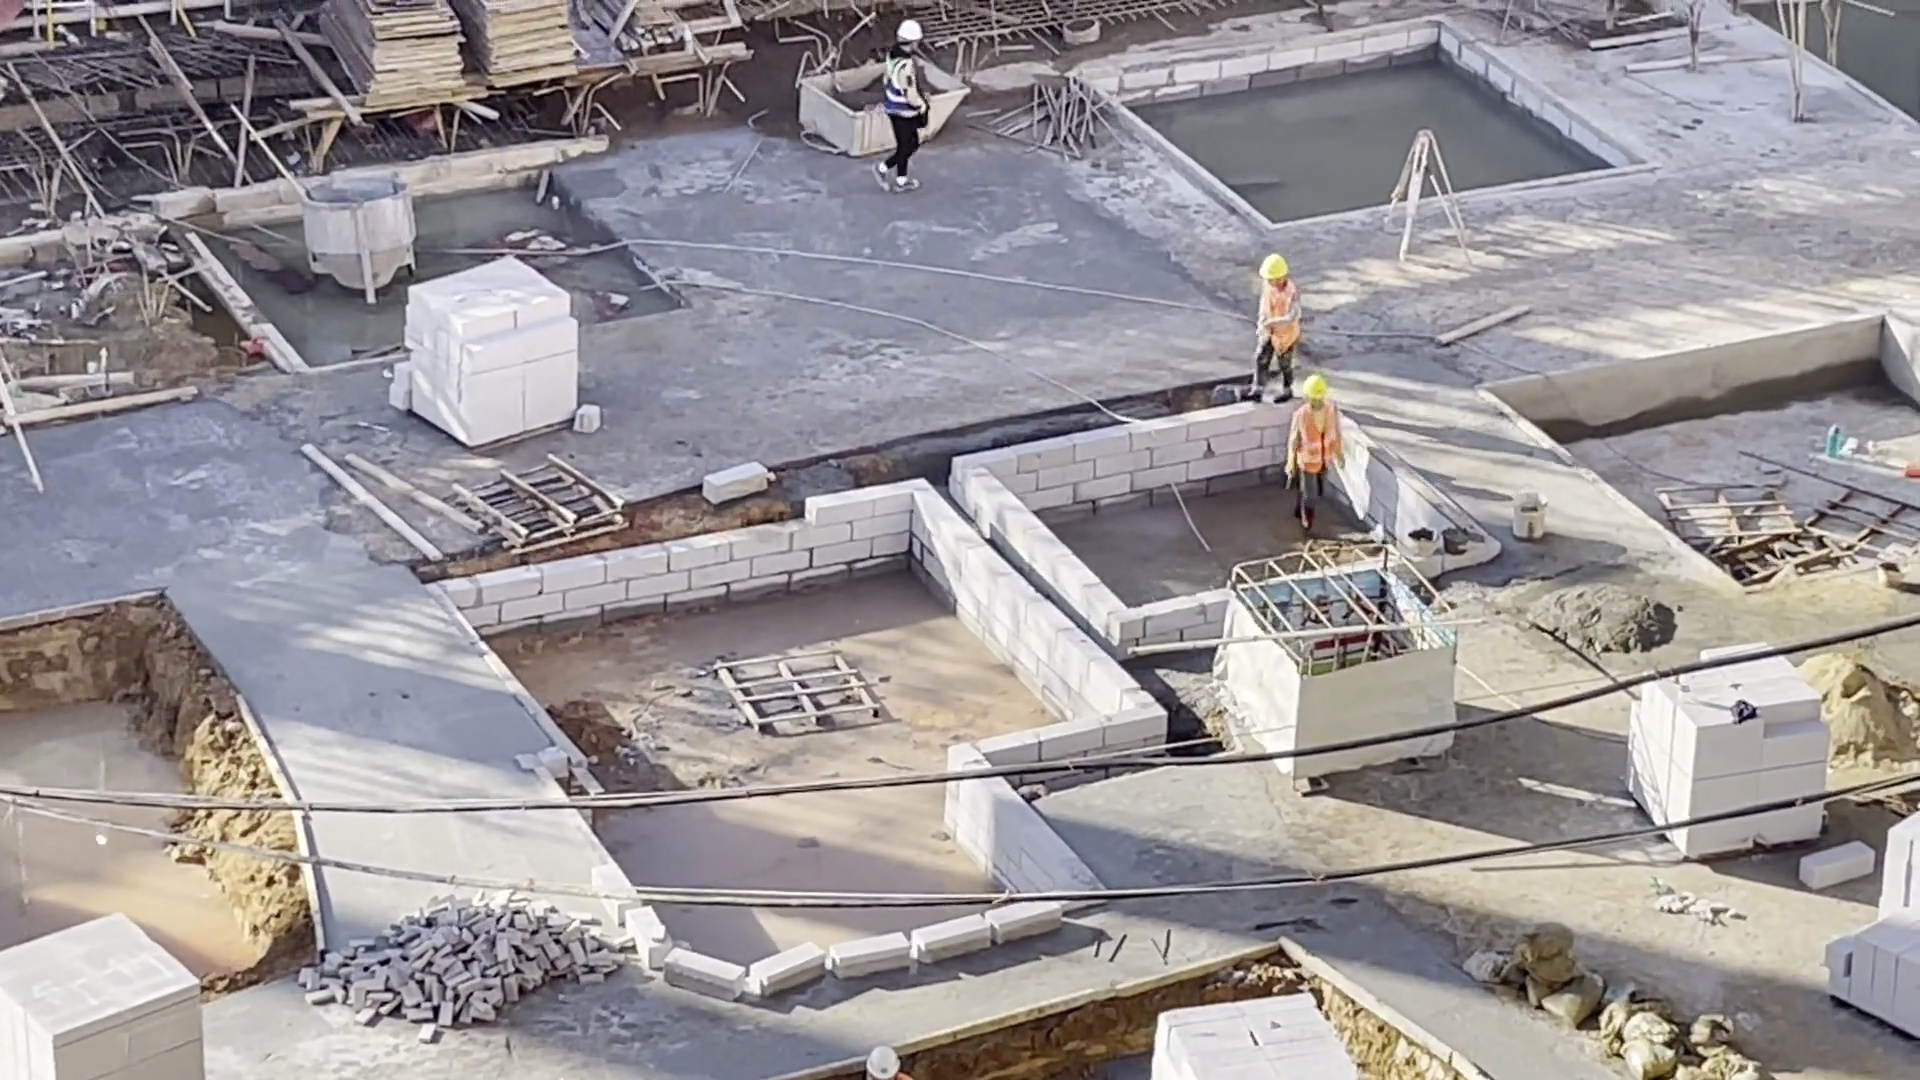board: (314, 1, 477, 111), (469, 2, 580, 93)
brick: (387, 252, 585, 449), (8, 901, 208, 1080), (1812, 798, 1920, 1032), (1619, 693, 1838, 803), (1147, 987, 1355, 1080)
helmet: (1256, 254, 1291, 282), (1299, 371, 1328, 401), (894, 19, 924, 44)
hopper: (299, 168, 415, 309), (792, 61, 882, 160)
person: (1279, 373, 1350, 535), (874, 16, 928, 194), (1242, 254, 1302, 405)
vest: (1294, 400, 1343, 476), (1257, 281, 1299, 354), (883, 52, 922, 116)
